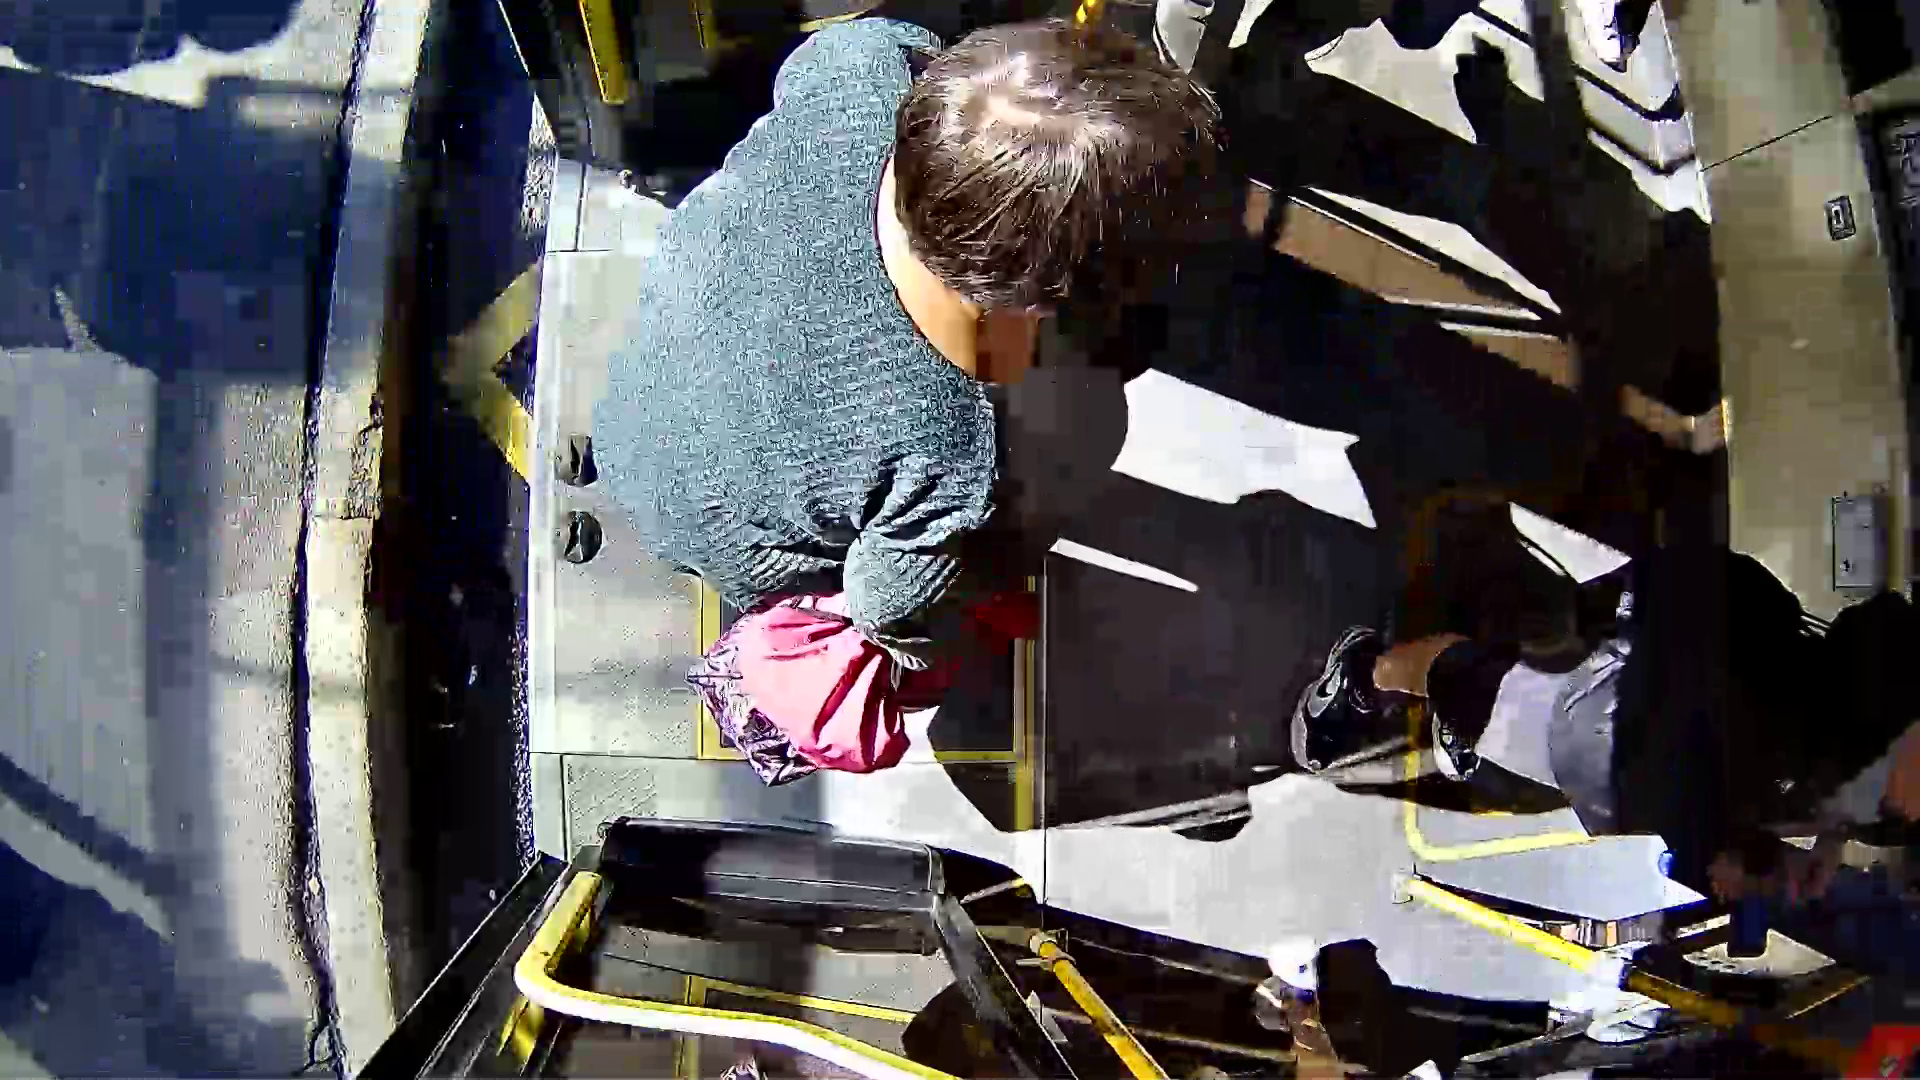person: (530, 6, 1373, 805)
